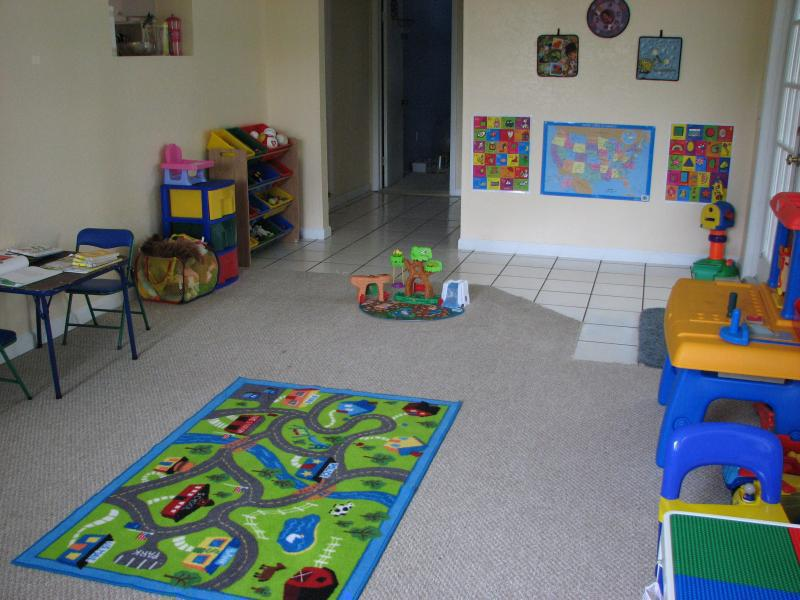Otro Obstaculo: (676, 273, 797, 428), (349, 241, 471, 328)
